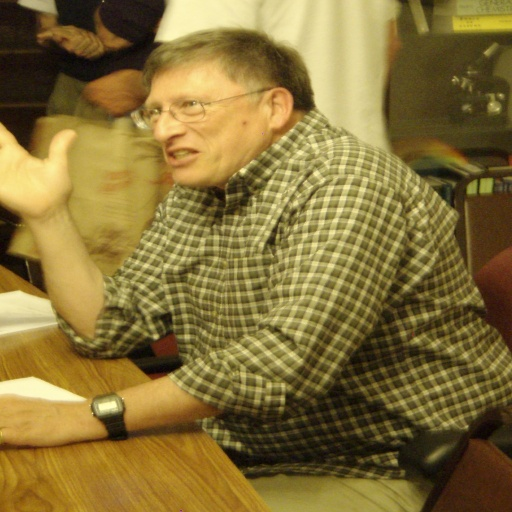hand: (2, 117, 83, 218), (0, 392, 86, 447), (78, 66, 143, 122), (52, 24, 109, 62), (34, 23, 86, 47)
